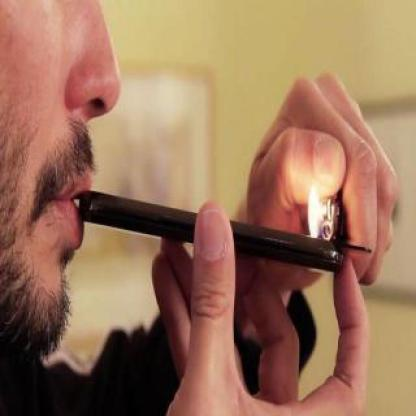fire: (302, 176, 328, 244)
